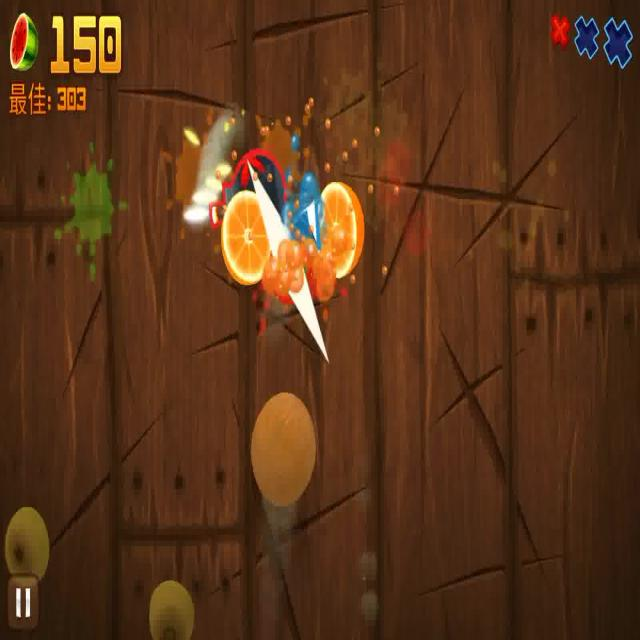bomb: (210, 148, 285, 236)
fruit: (251, 392, 317, 507), (312, 177, 363, 281), (4, 498, 50, 591), (221, 195, 267, 282), (147, 579, 195, 640)
